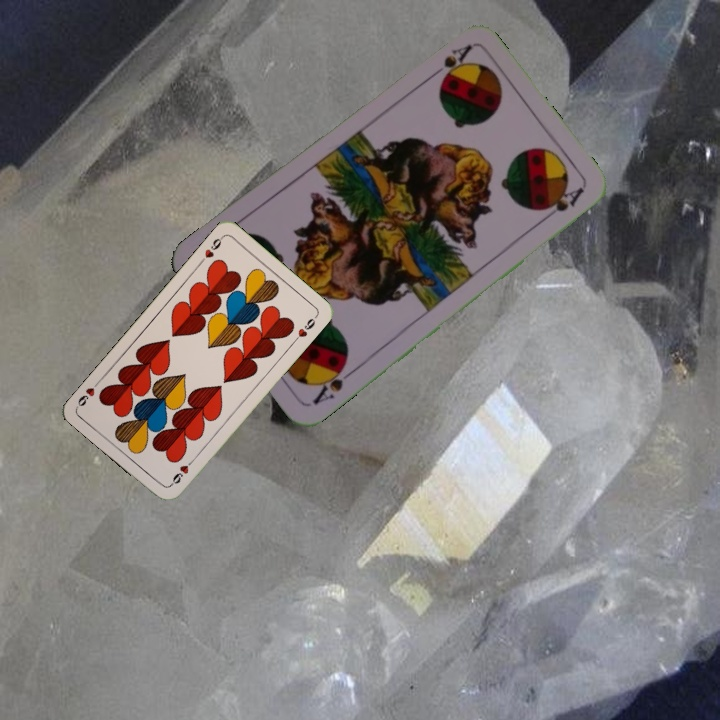H9: (166, 455, 197, 488), (196, 232, 226, 266)
SA: (308, 358, 358, 407), (423, 40, 474, 83)
